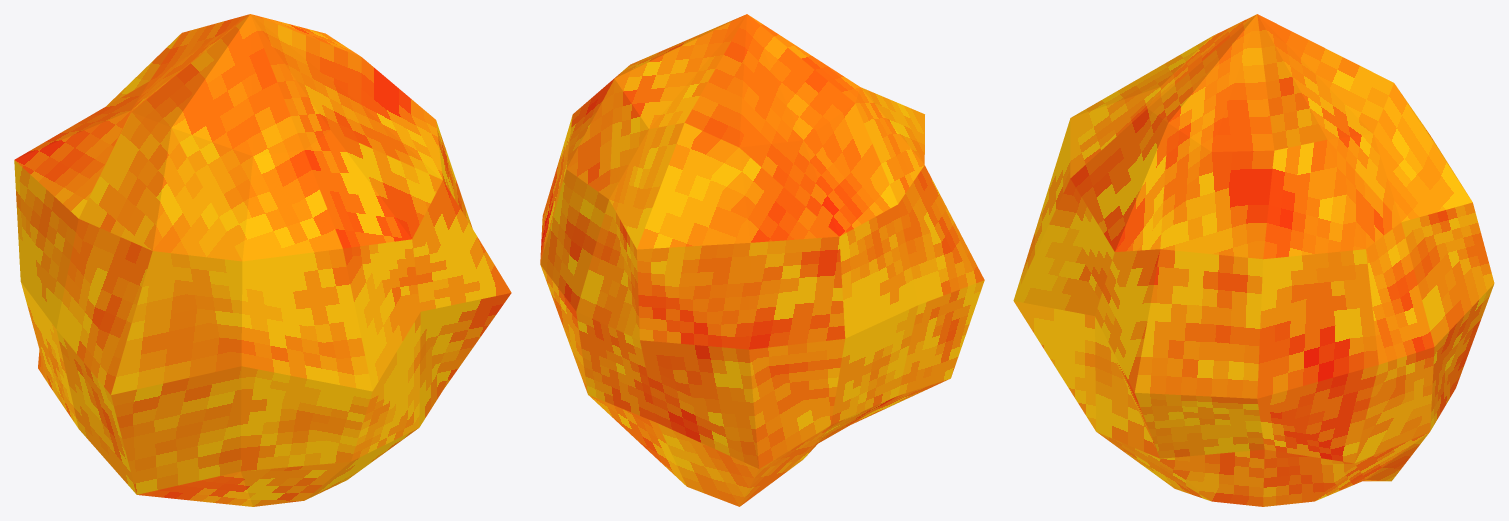
Rendered from Explosion.glb.
The picture shows the model from 3 angles, left to right: view 1: azimuth 30°, elevation 25°; view 2: azimuth 150°, elevation 25°; view 3: azimuth 270°, elevation 25°; orthographic projection. The views are drawn at different scales.
Parts seen in each view (by area): view 1: Сфера; view 2: Сфера; view 3: Сфера.
Boxes of the visible parts, <box> form: Сфера: <box>14,14,511,506</box>; Сфера: <box>540,14,984,506</box>; Сфера: <box>1013,14,1494,506</box>.
Size of the model in its own units: 3.8 by 4.14 by 3.74.
Materials: 1 (1 with a texture image).
